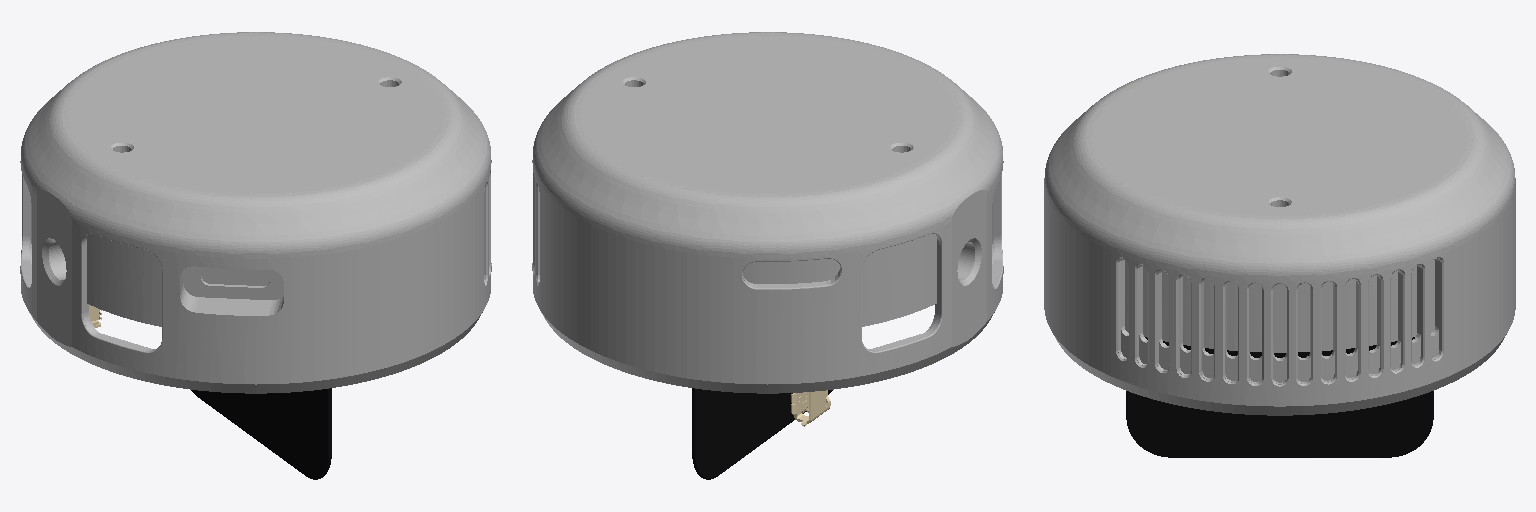
robot.urdf — realsense_d405:
<?xml version="1.0"?>
<robot name="realsense_d405">
  <material name="silver">
     <color rgba="0.75 0.75 0.75 1"/>
  </material>
  <material name="black">
     <color rgba="0.1 0.1 0.1 1"/>
  </material>
  <material name="gold">
     <color rgba="0.9 0.84 0.7 1"/>
  </material>


  <link name="case">
    <visual>
      <origin rpy="1.57075 0 1.57075" xyz="0 0 0"/>
      <material name="silver"/>
      <geometry>
        <mesh filename="assets/case.stl" />
      </geometry>
    </visual>
  </link>
  <link name="front_glass">
    <visual>
      <origin rpy="1.57075 0 1.57075" xyz="0 0 0"/>
      <material name="black"/>
      <geometry>
        <mesh filename="assets/front_glass.stl" />
      </geometry>
    </visual>
  </link>
  <joint name="case_to_front_glass" type="fixed">
    <parent link="case"/>
    <child link="front_glass"/>
  </joint>
  <link name="connector">
    <visual>
      <origin rpy="1.57075 0 1.57075" xyz="0 0 0"/>
      <material name="gold"/>
      <geometry>
        <mesh filename="assets/connector.stl" />
      </geometry>
    </visual>
  </link>
  <joint name="case_to_connector" type="fixed">
    <parent link="case"/>
    <child link="connector"/>
  </joint>
</robot>

--- Render facts (derived) ---
Views: 3 orthographic renders of the robot side by side, from view 1: azimuth 30°, elevation 25°; view 2: azimuth 150°, elevation 25°; view 3: azimuth 270°, elevation 25°.
Robot: realsense_d405 — 3 links, 2 joints (2 fixed); root link case; default pose: every joint at zero.
Links seen in each view (by area): view 1: case, front_glass; view 2: case, front_glass, connector; view 3: case, front_glass.
Boxes of the visible links, <box> form: case: <box>20,32,491,393</box>; front_glass: <box>191,388,331,479</box>; case: <box>532,32,1003,393</box>; front_glass: <box>692,388,832,479</box>; connector: <box>791,390,830,426</box>; case: <box>1044,54,1515,415</box>; front_glass: <box>1126,337,1433,457</box>.
Size in the robot's own frame: 0.0607 by 0.061 by 0.0459 metres.
Meshes: 3 distinct files referenced, 3 mesh visuals loaded (3 binary STL).